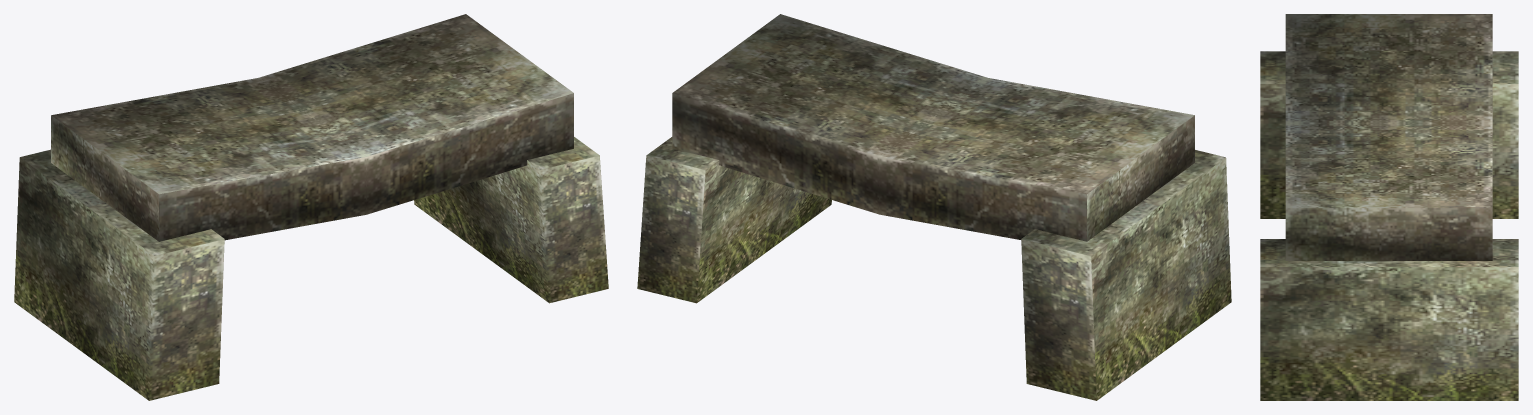
3 renders of one model, left to right at view 1: azimuth 30°, elevation 25°; view 2: azimuth 150°, elevation 25°; view 3: azimuth 270°, elevation 25°, orthographic. The views are drawn at different scales.
Parts seen in each view (by area): view 1: OM_20_mi_f06obj04D; view 2: OM_20_mi_f06obj04D; view 3: OM_20_mi_f06obj04D.
Boxes of the visible parts, x1,y1,x2,y2 form: OM_20_mi_f06obj04D: (14, 14, 608, 400); OM_20_mi_f06obj04D: (637, 14, 1231, 400); OM_20_mi_f06obj04D: (1260, 14, 1518, 400).
Size of the model in its own units: 3.88 by 1.54 by 1.97.
1 material, 1 textured.
